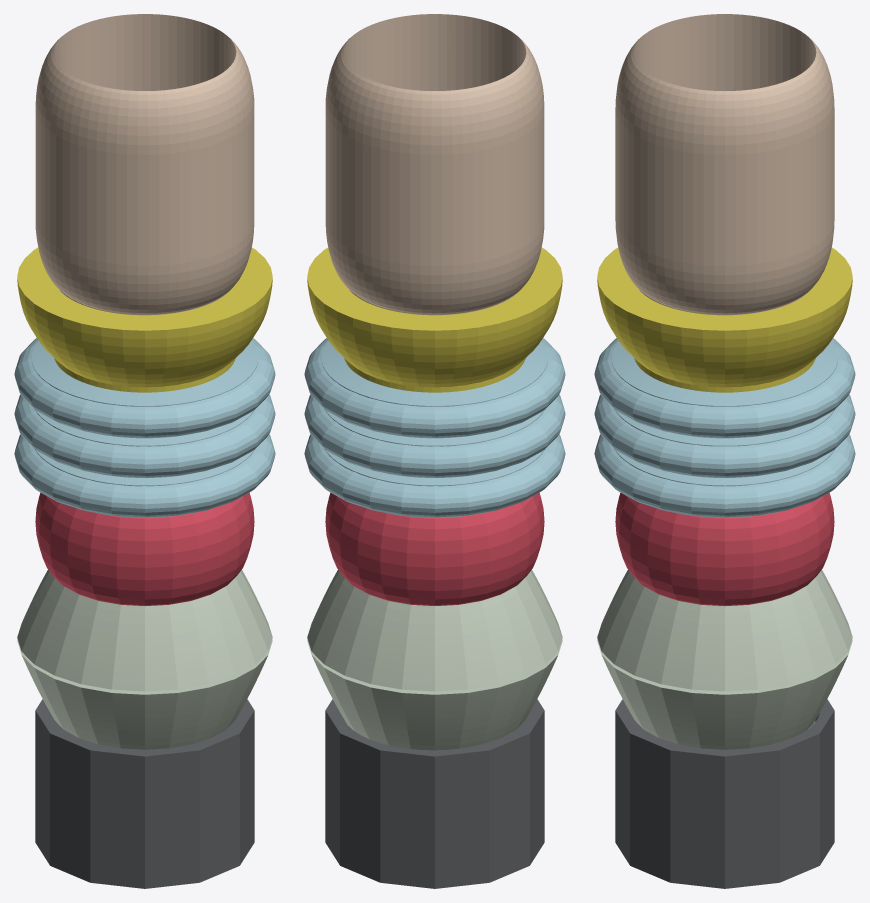
File: Full.glb
3 renders of one model, left to right at view 1: azimuth 30°, elevation 25°; view 2: azimuth 150°, elevation 25°; view 3: azimuth 270°, elevation 25°, orthographic.
Parts seen in each view (by area): view 1: Mesh_Mesh_head_geo.001_lambert2SG.001; view 2: Mesh_Mesh_head_geo.001_lambert2SG.001; view 3: Mesh_Mesh_head_geo.001_lambert2SG.001.
Boxes of the visible parts, x1,y1,x2,y2 form: Mesh_Mesh_head_geo.001_lambert2SG.001: (14, 14, 275, 888); Mesh_Mesh_head_geo.001_lambert2SG.001: (304, 14, 565, 888); Mesh_Mesh_head_geo.001_lambert2SG.001: (594, 14, 855, 888).
Size of the model in its own units: 71.51 by 239 by 71.51.
